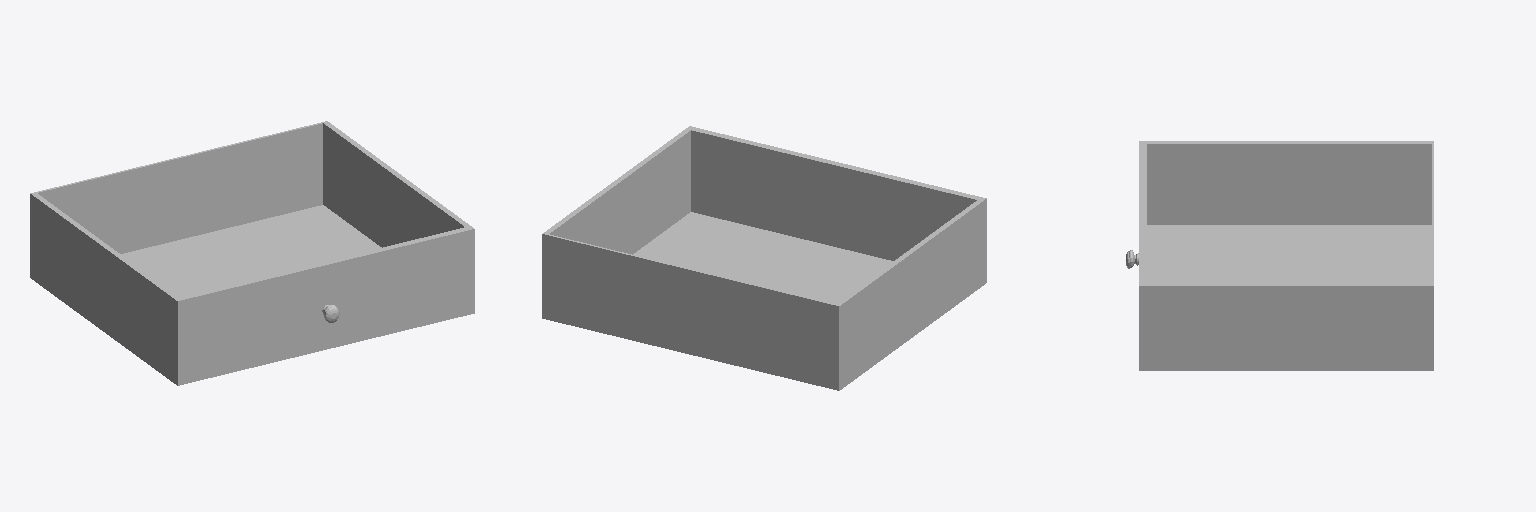
File: SmallDrawerSecond.obj
3 views of the same model, side by side, from view 1: azimuth 30°, elevation 25°; view 2: azimuth 150°, elevation 25°; view 3: azimuth 270°, elevation 25° (orthographic).
Visible parts, largest first — view 1: Plane_007; view 2: Plane_007; view 3: Plane_007.
Part boxes in pixels (left/top/right/bottom): Plane_007: left=30, top=121, right=474, bottom=385; Plane_007: left=542, top=126, right=986, bottom=390; Plane_007: left=1126, top=141, right=1433, bottom=370.
Bounding box in the file's own units: 0.5974 × 0.1626 × 0.5376.